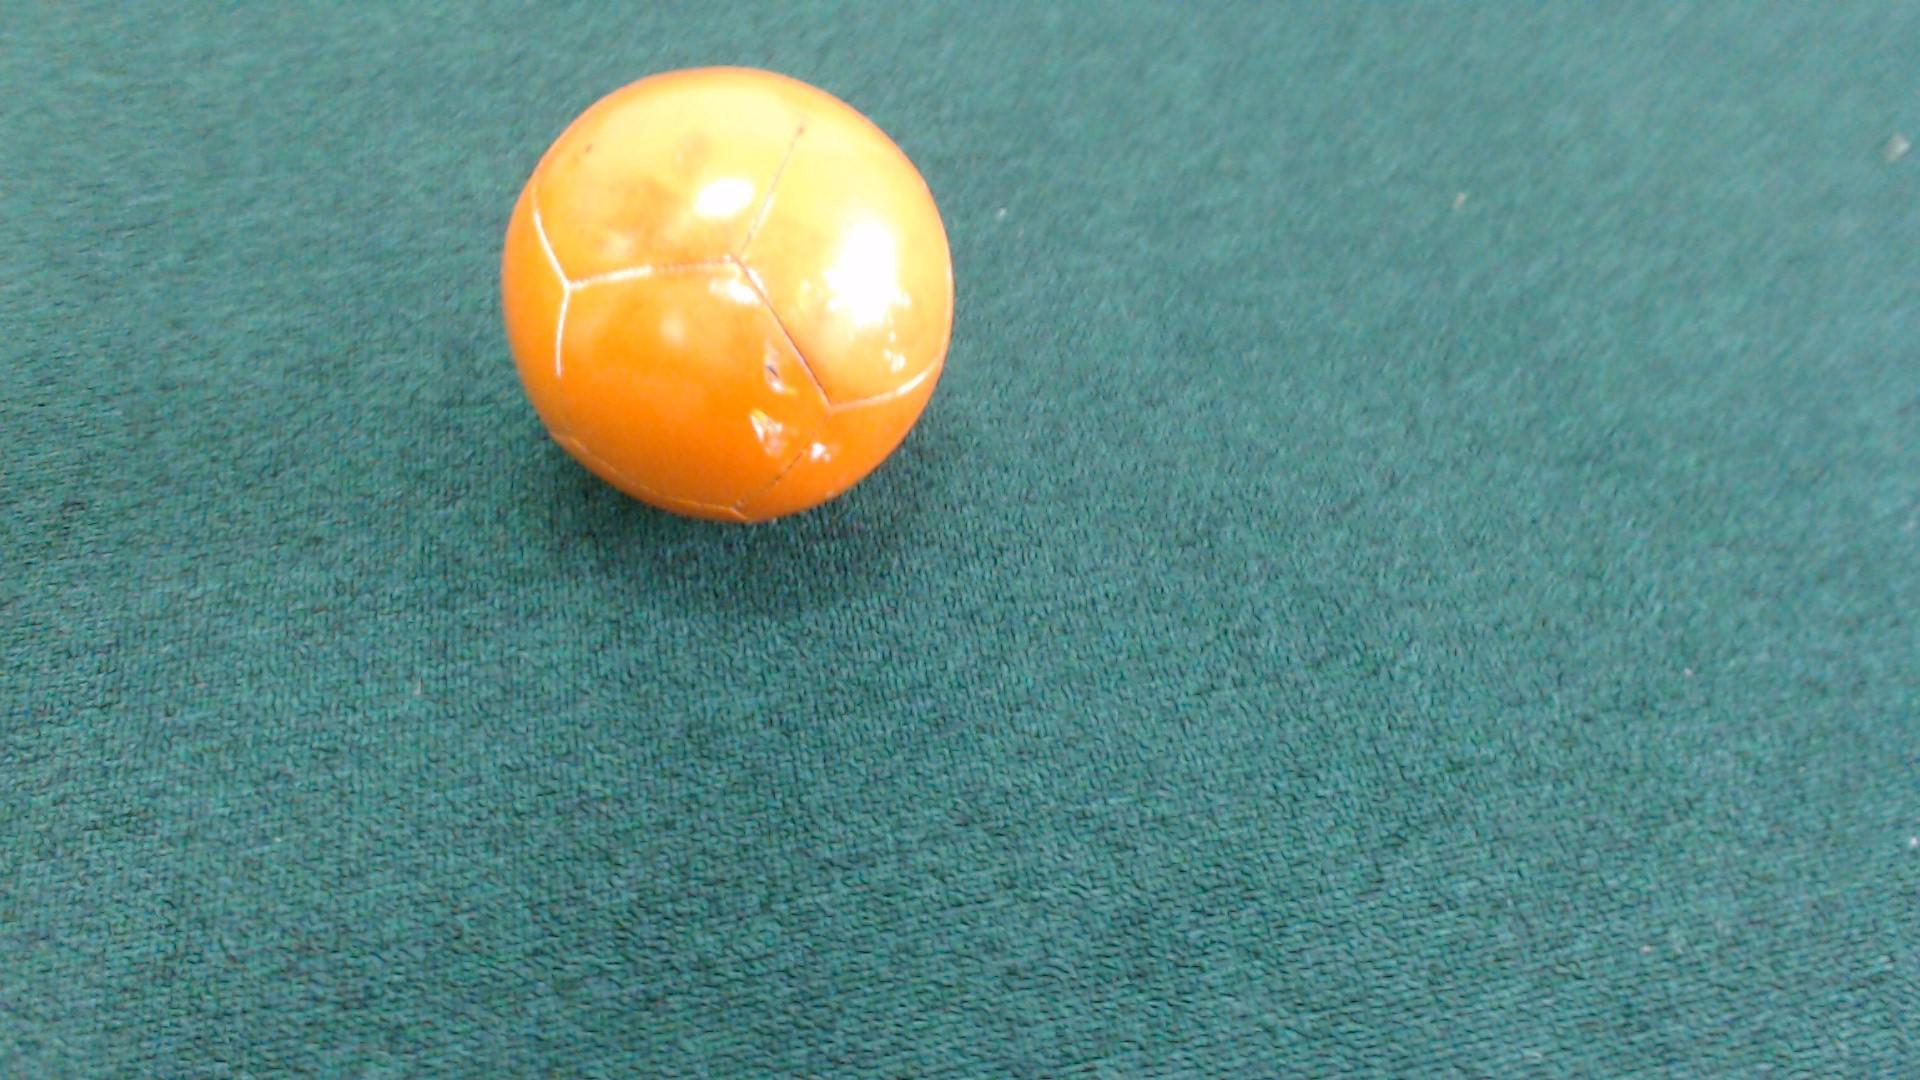bola: (456, 62, 992, 537)
